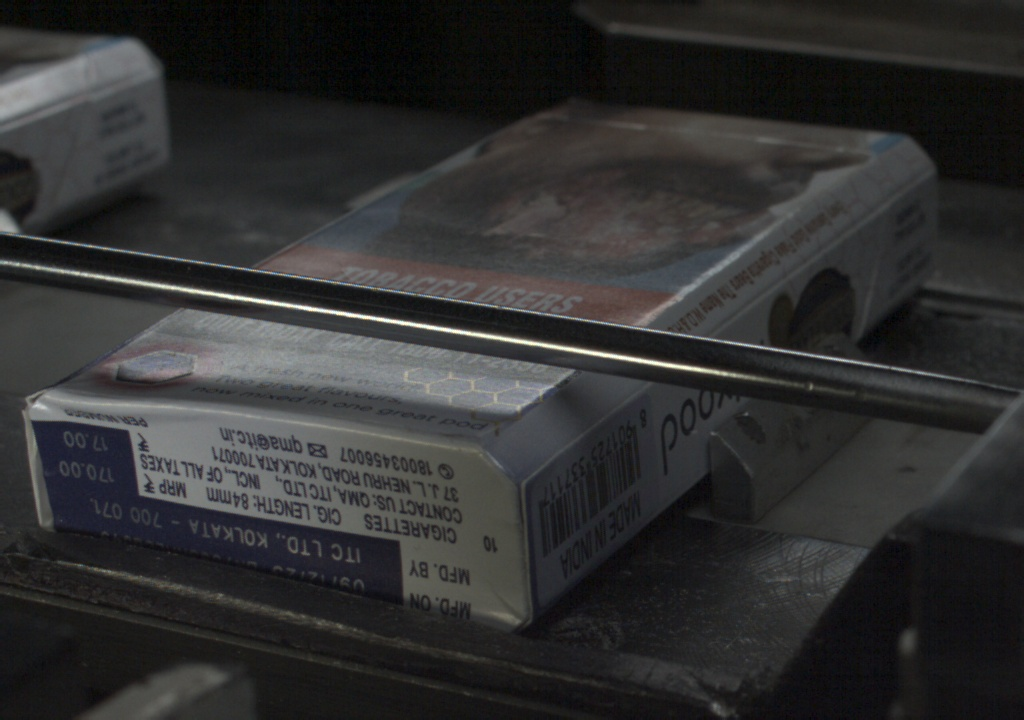g_label: (42, 494, 407, 606)
g_lmiter: (705, 263, 798, 335), (799, 199, 885, 262), (582, 386, 648, 437), (526, 434, 584, 487)
g_miter: (893, 163, 936, 197)
ng_bottom: (24, 392, 533, 632)
price: (34, 423, 133, 493)
